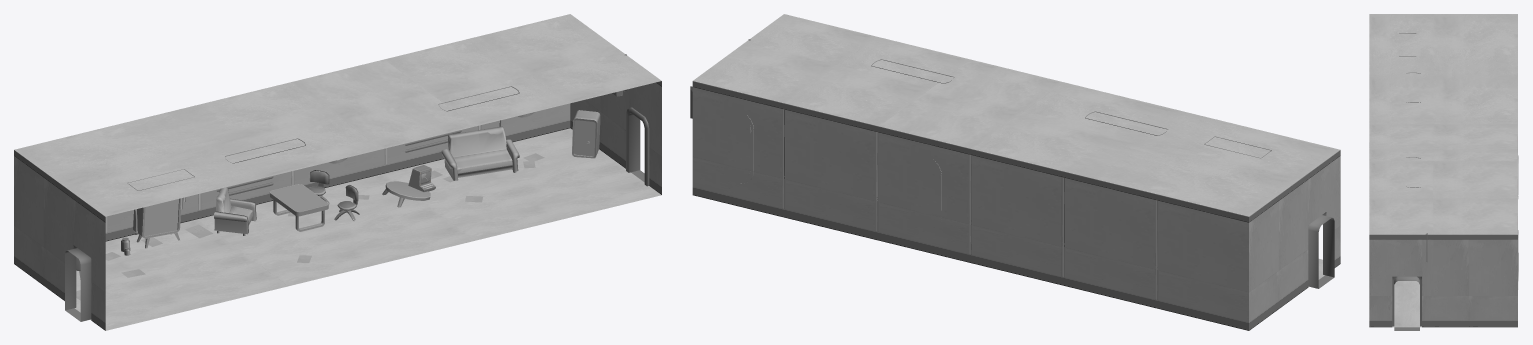
The model's file is MSH_QuestIndustrial_L3_R3_optimized.fbx.
3 renders of one model, left to right at view 1: azimuth 30°, elevation 25°; view 2: azimuth 150°, elevation 25°; view 3: azimuth 270°, elevation 25°, orthographic. The views are drawn at different scales.
Visible parts, largest first — view 1: lightmap1, lightmap2, lightmap0, MSH_QuestIndustrial_L3_R3_Decals_01; view 2: lightmap1, lightmap0; view 3: lightmap1, lightmap2, lightmap0.
Boxes of the visible parts, box(x1,y1,x2,y2) form: lightmap1: box(14, 14, 661, 330); lightmap2: box(74, 110, 661, 330); lightmap0: box(73, 54, 649, 255); MSH_QuestIndustrial_L3_R3_Decals_01: box(76, 153, 544, 300); lightmap1: box(692, 14, 1340, 330); lightmap0: box(748, 39, 1326, 215); lightmap1: box(1369, 14, 1518, 330); lightmap2: box(1392, 281, 1421, 327); lightmap0: box(1392, 33, 1427, 326).
Size of the model in its own units: 30.91 by 5.97 by 8.55.
2 materials, 2 textured.
